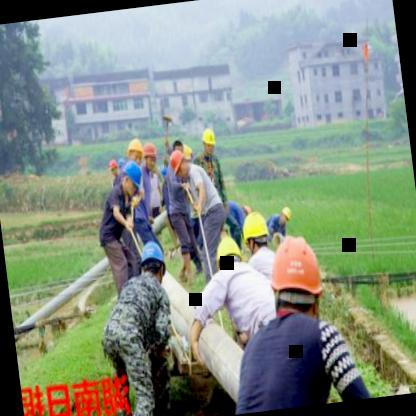helmet: (265, 229, 330, 330), (240, 208, 272, 262), (136, 238, 168, 288), (210, 231, 244, 278), (119, 156, 146, 198), (124, 134, 146, 170), (168, 146, 190, 178), (196, 127, 218, 158), (141, 140, 159, 172), (277, 200, 294, 225)
